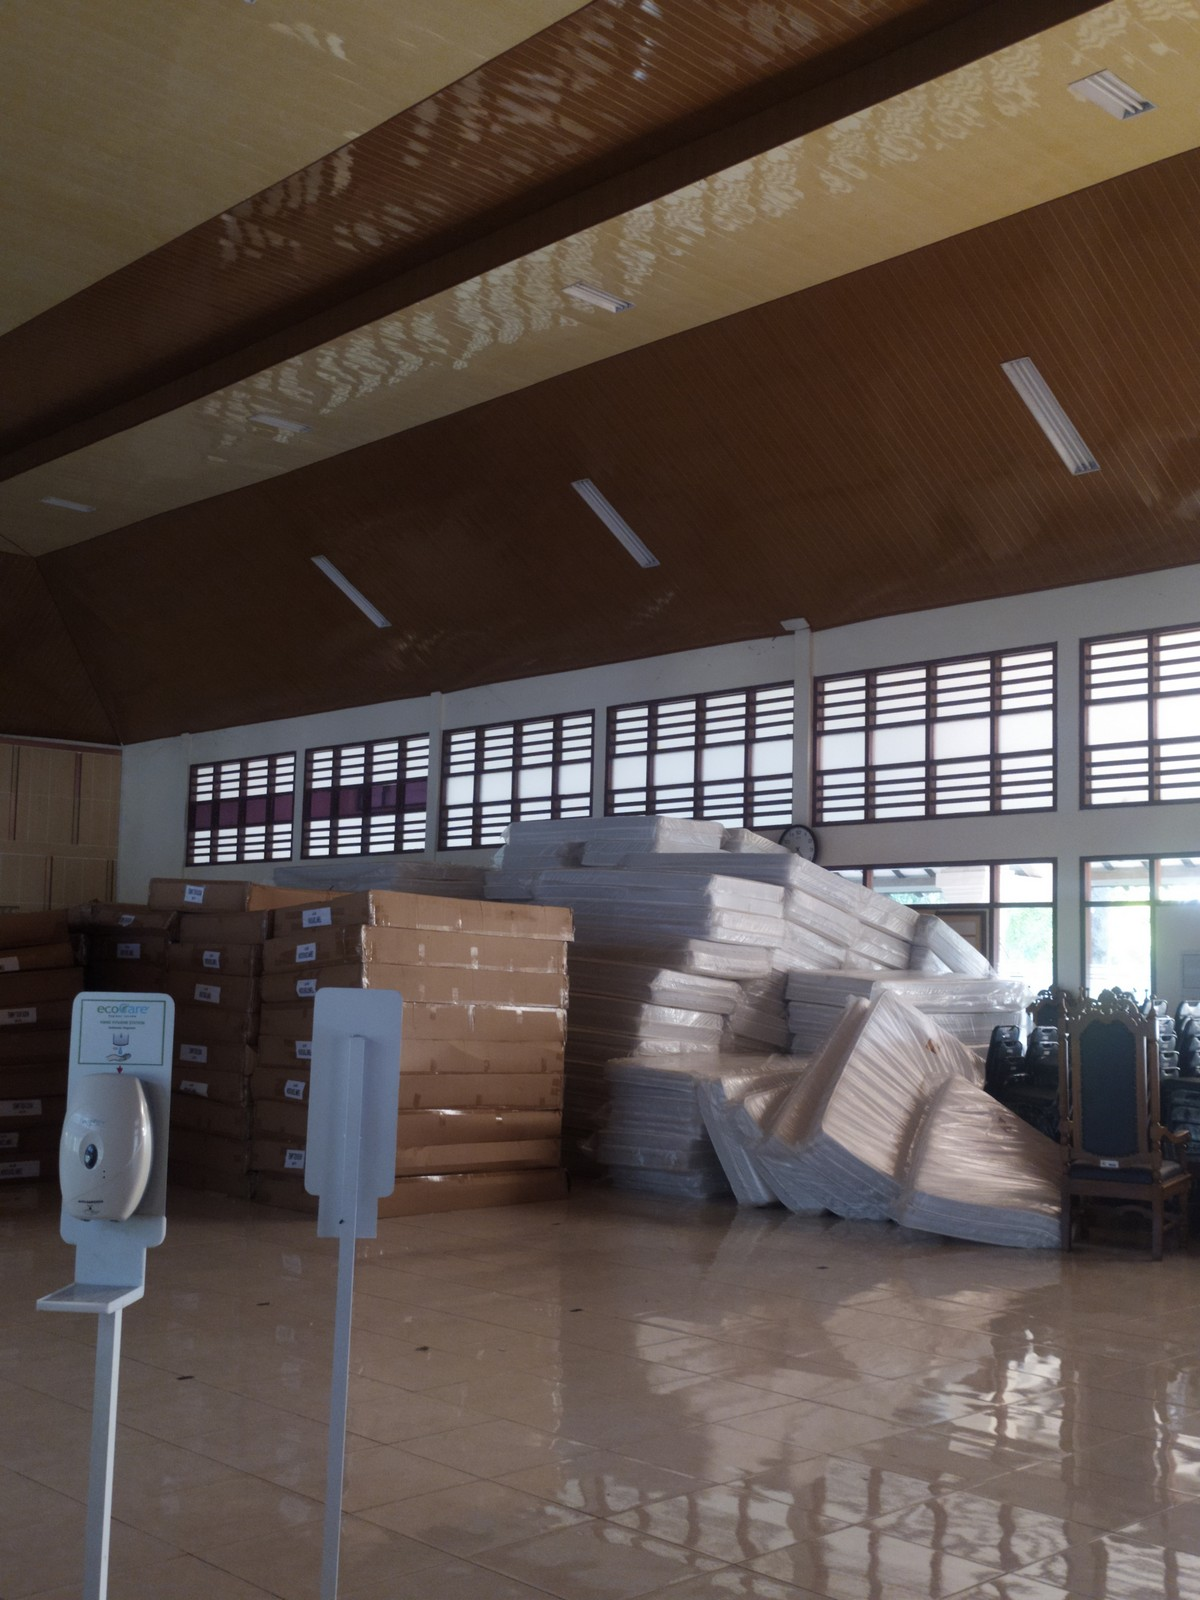concrete column: (792, 625, 816, 826), (424, 690, 447, 855)
